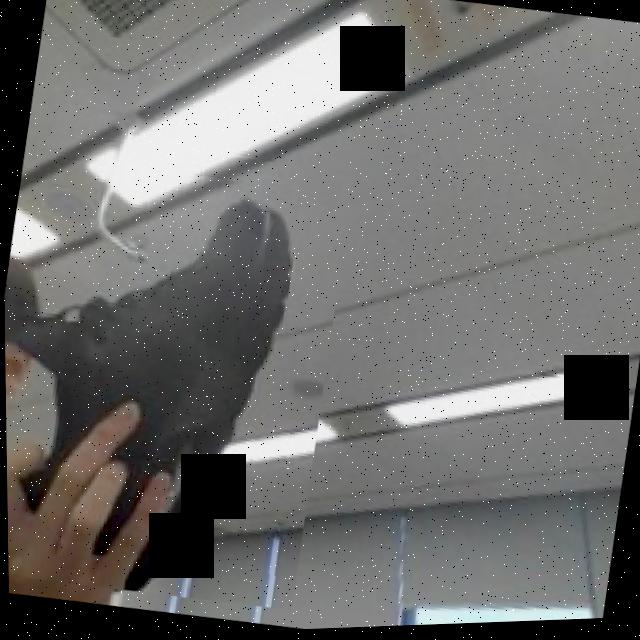shoe: (2, 142, 356, 621)
